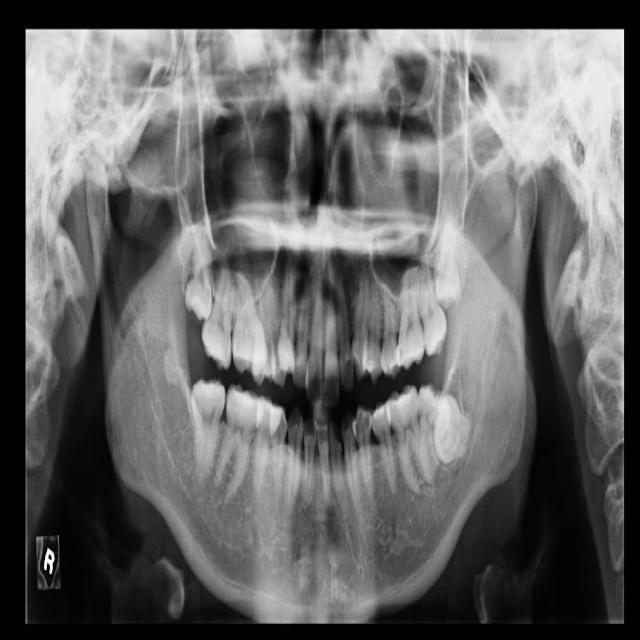impacted tooth: (430, 213, 462, 304), (436, 394, 474, 466), (183, 226, 213, 317)
